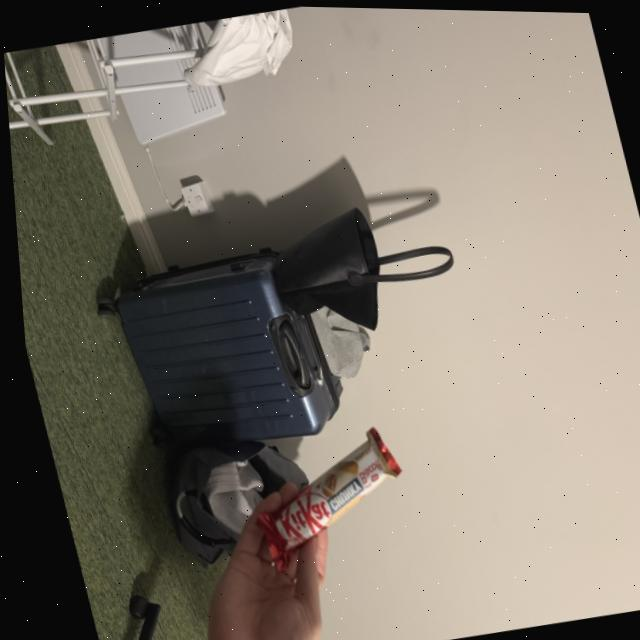chocolate: (221, 412, 416, 579)
